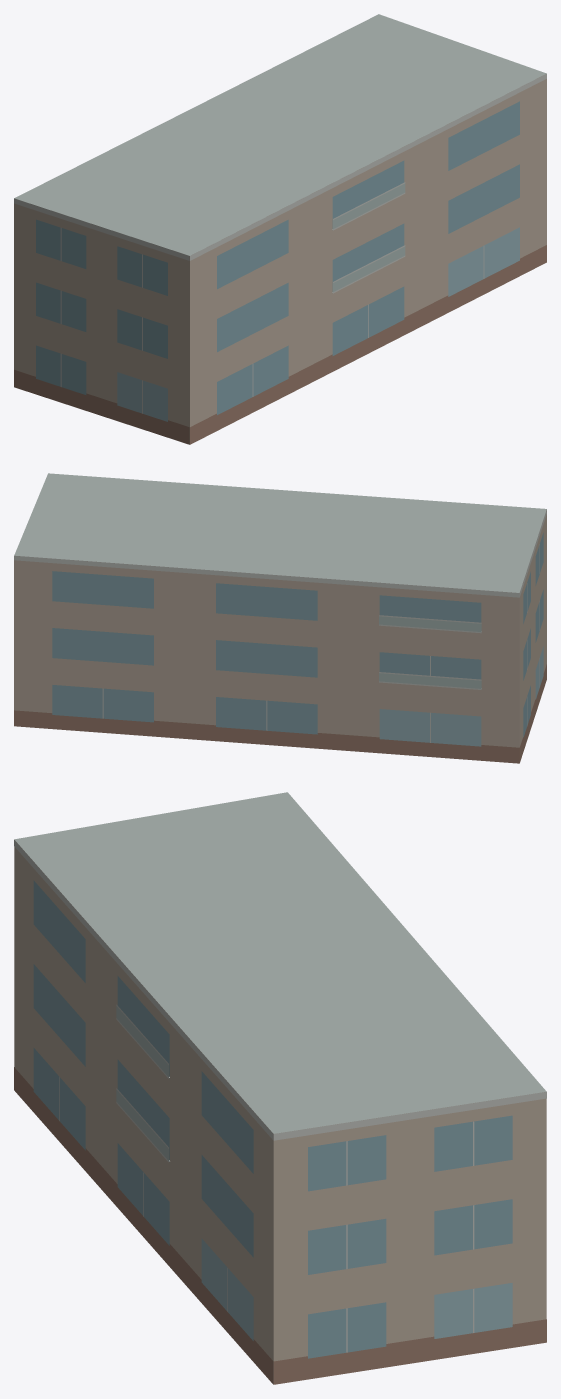
Rendered from residential-ee8ca40b-ad98-4604-b341-aeeba247a00f.glb.
The picture shows the model from 3 angles, top to bottom: view 1: azimuth 30°, elevation 25°; view 2: azimuth 150°, elevation 25°; view 3: azimuth 270°, elevation 25°; orthographic projection. The views are drawn at different scales.
Visible parts, largest first — view 1: residential-ee8ca40b-ad98-4604-b341-aeeba247a00f.tmp; view 2: residential-ee8ca40b-ad98-4604-b341-aeeba247a00f.tmp; view 3: residential-ee8ca40b-ad98-4604-b341-aeeba247a00f.tmp.
Boxes of the visible parts, x1,y1,x2,y2 form: residential-ee8ca40b-ad98-4604-b341-aeeba247a00f.tmp: (14,14,546,444); residential-ee8ca40b-ad98-4604-b341-aeeba247a00f.tmp: (14,473,546,763); residential-ee8ca40b-ad98-4604-b341-aeeba247a00f.tmp: (14,792,546,1384).
Bounding box in the file's own units: 26.31 × 9 × 17.33.
